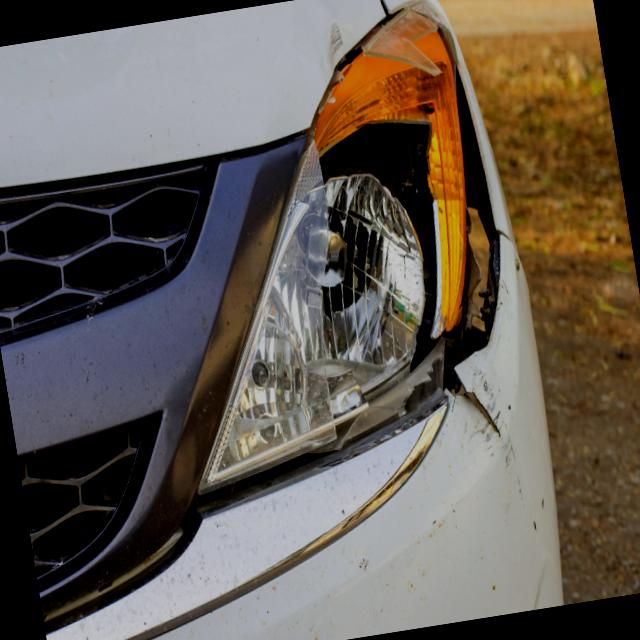Dechirure: (444, 360, 503, 457)
Phare abime: (271, 2, 527, 443)
